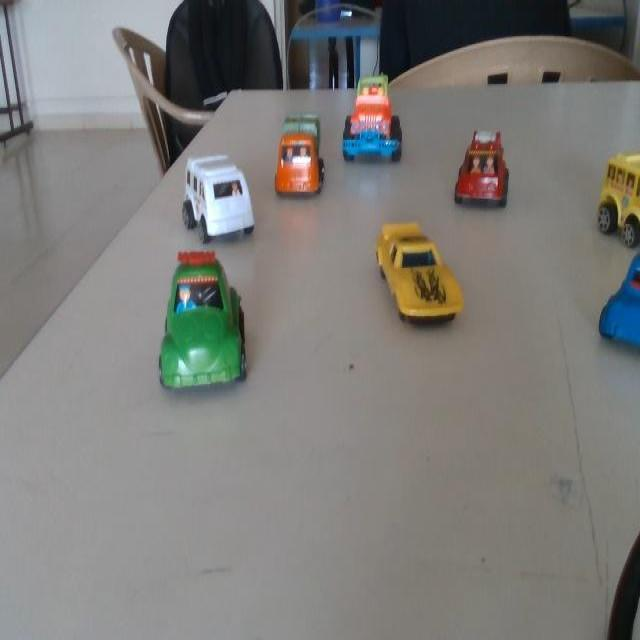car: (84, 217, 297, 472), (332, 209, 491, 355), (160, 134, 268, 268), (337, 62, 418, 166), (263, 98, 328, 214), (446, 129, 508, 219), (587, 153, 639, 251), (595, 247, 639, 361)
